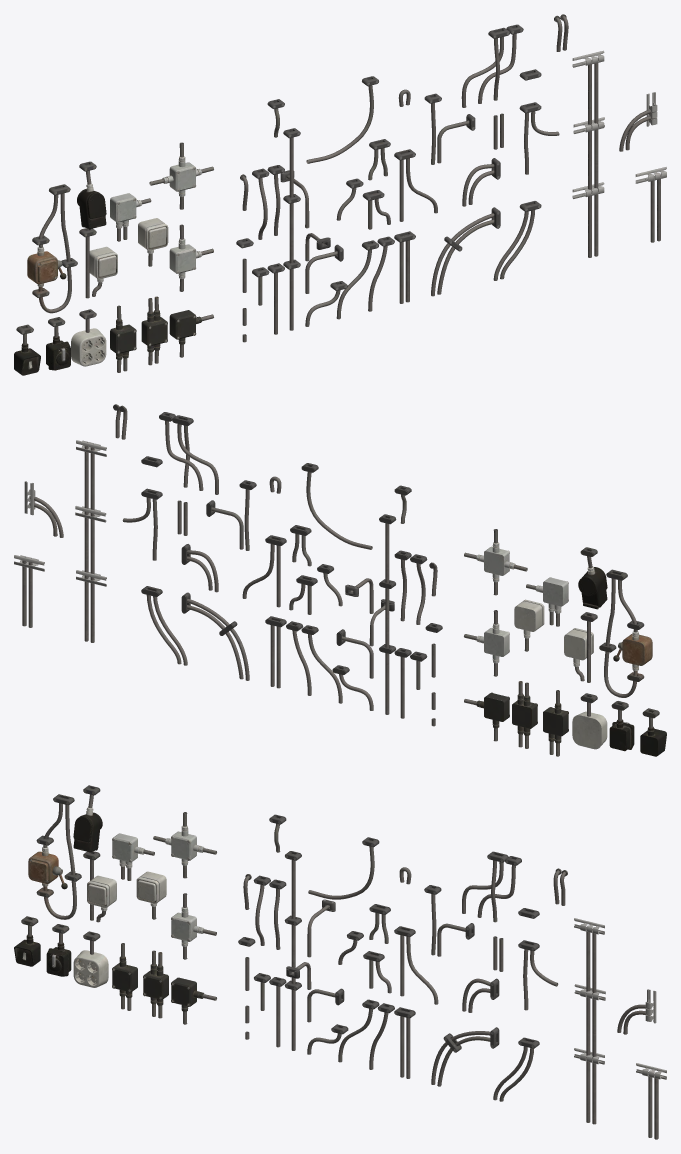
File: cables.glb
The picture shows the model from 3 angles, top to bottom: view 1: azimuth 30°, elevation 25°; view 2: azimuth 150°, elevation 25°; view 3: azimuth 330°, elevation 25°; orthographic projection.
Visible parts, largest first — view 1: cable_double_alt_long, cable_switch, cable_plug_4x, cable_lightswitch_double, cable_3way_junction, cable_straight_long, cable_plug_covered_2, cable_double_turn_long, cable_box_double, cable_box_4way, cable_box_3way, cable_box_double_to_single (+14 smaller); view 2: cable_double_alt_long, cable_switch, cable_3way_junction, cable_plug_4x, cable_straight_long, cable_lightswitch_double, cable_double_turn_long, cable_plug_covered_2, cable_box_double, cable_box_4way, cable_box_double_to_single_2, cable_box_3way (+14 smaller); view 3: cable_double_alt_long, cable_switch, cable_plug_4x, cable_3way_junction, cable_straight_long, cable_plug_covered_2, cable_lightswitch_double, cable_box_4way, cable_box_double, cable_double_turn_long, cable_box_3way, cable_box_double_to_single (+14 smaller).
Boxes of the visible parts, box(x1,y1,x2,y2) form: cable_double_alt_long: box(572, 50, 604, 257); cable_switch: box(27, 184, 77, 313); cable_plug_4x: box(71, 309, 106, 366); cable_lightswitch_double: box(79, 228, 117, 298); cable_3way_junction: box(461, 24, 523, 107); cable_straight_long: box(283, 128, 300, 330); cable_plug_covered_2: box(77, 161, 106, 228); cable_double_turn_long: box(431, 207, 500, 296); cable_box_double: box(141, 296, 167, 365); cable_box_4way: box(149, 142, 213, 209); cable_box_3way: box(169, 224, 213, 291); cable_box_double_to_single: box(110, 305, 136, 372); cable_double_alt_long: box(75, 440, 106, 642); cable_switch: box(599, 569, 652, 697); cable_3way_junction: box(159, 412, 218, 494); cable_plug_4x: box(572, 693, 607, 749); cable_straight_long: box(379, 514, 396, 714); cable_lightswitch_double: box(564, 612, 597, 682); cable_double_turn_long: box(181, 592, 249, 680); cable_plug_covered_2: box(578, 547, 607, 609); cable_box_double: box(512, 681, 537, 748); cable_box_4way: box(464, 529, 527, 595); cable_box_double_to_single_2: box(526, 577, 568, 626); cable_box_3way: box(464, 610, 509, 676); cable_double_alt_long: box(574, 918, 605, 1124); cable_switch: box(28, 794, 81, 919); cable_plug_4x: box(73, 931, 108, 987); cable_3way_junction: box(462, 851, 521, 922); cable_straight_long: box(284, 851, 301, 1050); cable_plug_covered_2: box(73, 785, 102, 852); cable_lightswitch_double: box(83, 851, 116, 922); cable_box_4way: box(153, 812, 216, 878); cable_box_double: box(143, 950, 168, 1018); cable_double_turn_long: box(431, 1027, 499, 1086); cable_box_3way: box(171, 893, 216, 959); cable_box_double_to_single: box(112, 943, 137, 1010).
Bounding box in the file's own units: 2.08 × 0.7573 × 0.2145.
2 materials, 2 textured.
